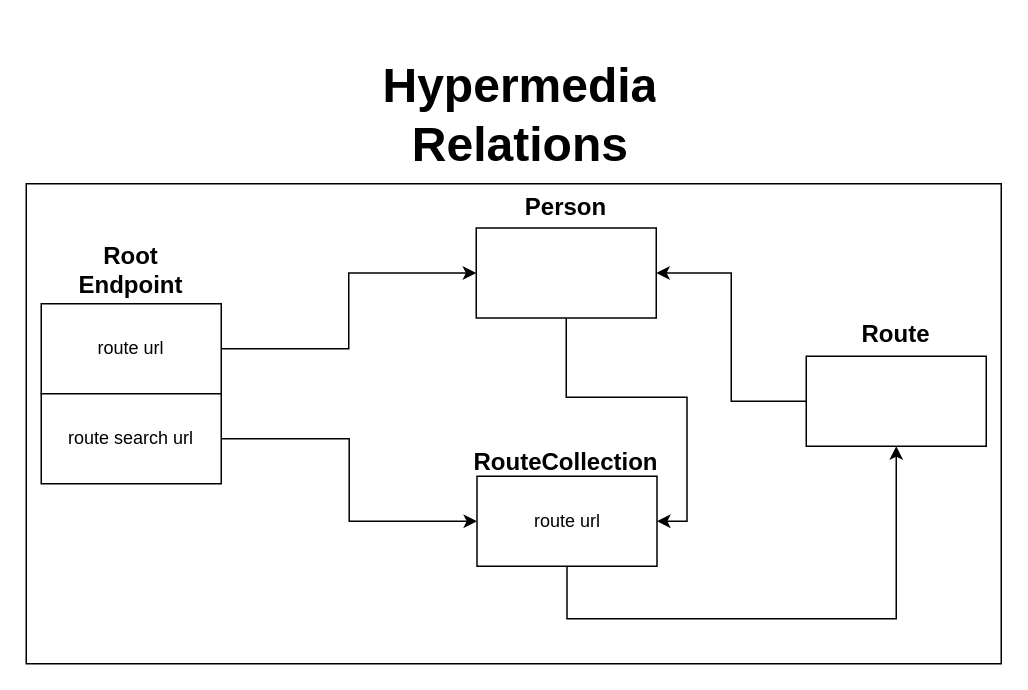
Image size: 1028x690. Some labels were removed from this diagram. The centre of each missing label's shape, as x and y in pixels:
"person url" goes at (895,400).
"route collection url" goes at (565,272).
